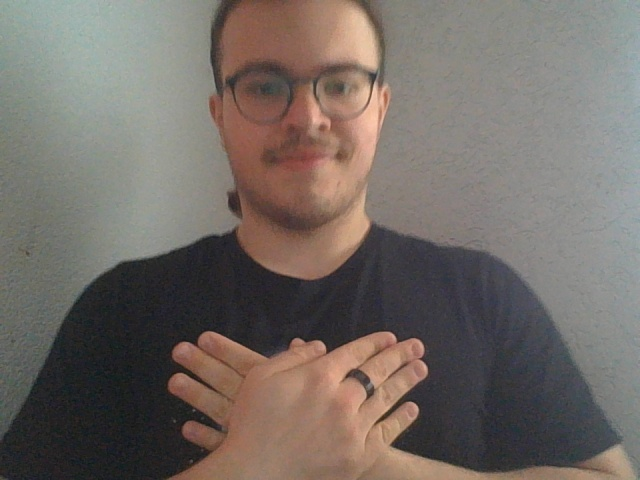Love: (165, 326, 430, 480)
